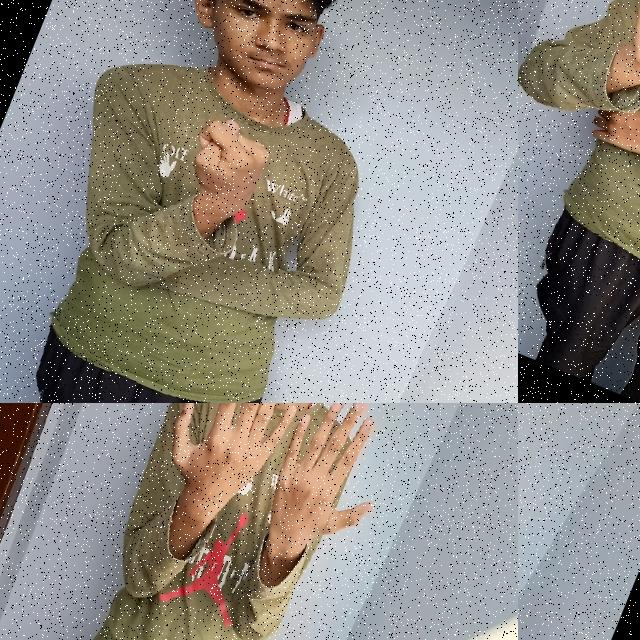Dulya: (160, 102, 292, 246)
Moutza: (236, 403, 412, 582), (141, 403, 321, 542)
